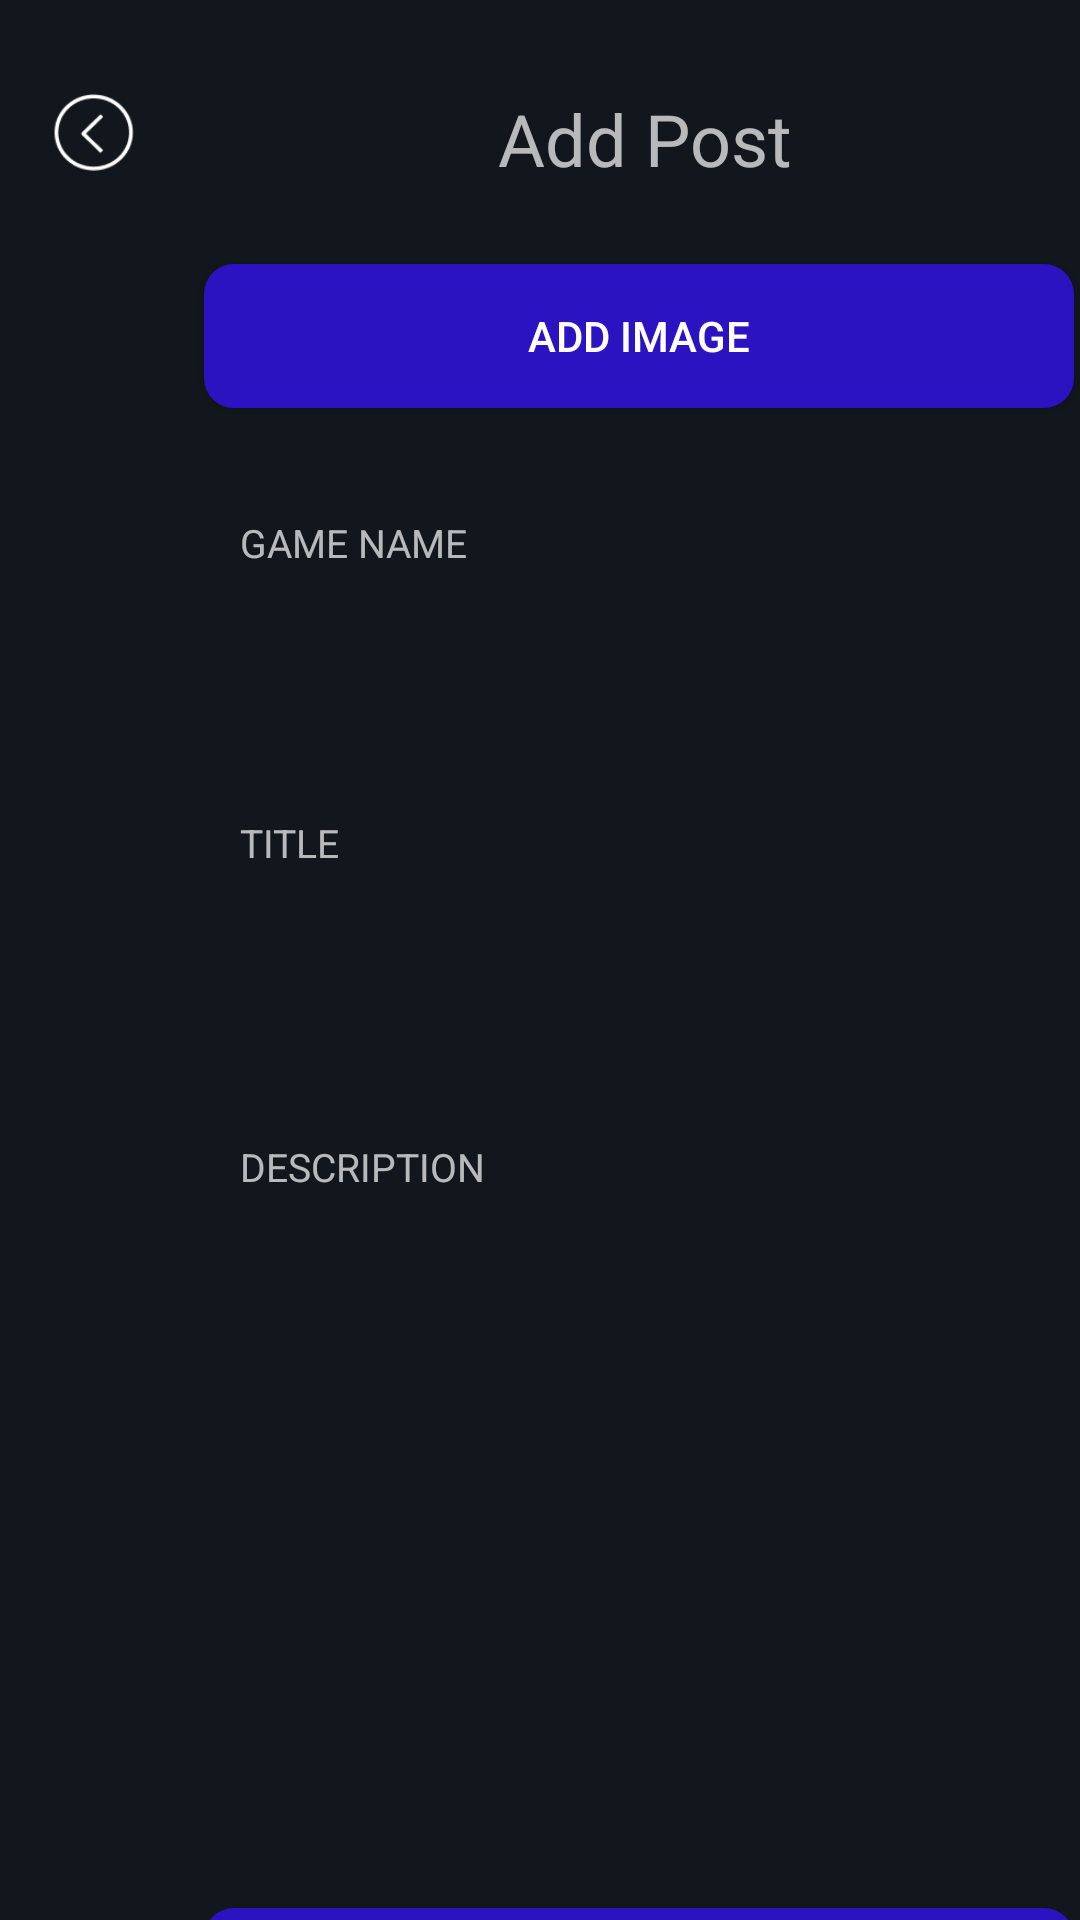

Icon click points for this 1080*1920 phone screenshot, format [x,y]:
back arrow: [94,132]
